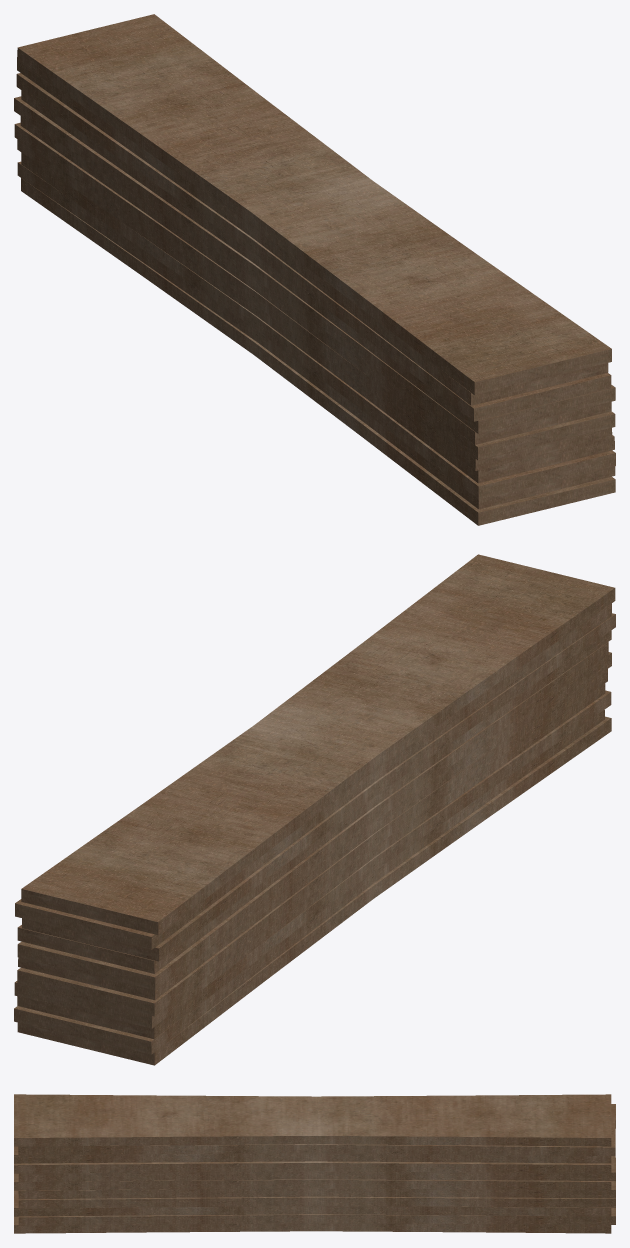
The model's file is Wood Planks Game Ready Asset.glb.
The picture shows the model from 3 angles, top to bottom: view 1: azimuth 30°, elevation 25°; view 2: azimuth 150°, elevation 25°; view 3: azimuth 270°, elevation 25°; orthographic projection. The views are drawn at different scales.
Parts seen in each view (by area): view 1: WoodPlank.010, WoodPlank, WoodPlank.008, WoodPlank.002, WoodPlank.006, WoodPlank.004, WoodPlank.005, WoodPlank.001, WoodPlank.009, WoodPlank.003, WoodPlank.007; view 2: WoodPlank.010, WoodPlank.006, WoodPlank.004, WoodPlank, WoodPlank.008, WoodPlank.002, WoodPlank.009, WoodPlank.001, WoodPlank.005, WoodPlank.003, WoodPlank.007; view 3: WoodPlank.010, WoodPlank.007, WoodPlank.003, WoodPlank.009, WoodPlank.005, WoodPlank.001, WoodPlank.002, WoodPlank.004, WoodPlank.008, WoodPlank, WoodPlank.006.
Boxes of the visible parts, <box> form: WoodPlank.010: <box>17,14,611,395</box>; WoodPlank: <box>21,178,615,525</box>; WoodPlank.008: <box>16,73,611,421</box>; WoodPlank.002: <box>21,152,615,499</box>; WoodPlank.006: <box>14,96,611,444</box>; WoodPlank.004: <box>14,122,612,470</box>; WoodPlank.005: <box>20,116,615,460</box>; WoodPlank.001: <box>17,161,615,509</box>; WoodPlank.009: <box>17,57,608,405</box>; WoodPlank.003: <box>17,139,614,483</box>; WoodPlank.007: <box>21,90,615,433</box>; WoodPlank.010: <box>21,554,615,934</box>; WoodPlank.006: <box>17,642,608,990</box>; WoodPlank.004: <box>17,669,607,1016</box>; WoodPlank: <box>17,716,611,1065</box>; WoodPlank.008: <box>22,613,615,961</box>; WoodPlank.002: <box>17,690,611,1038</box>; WoodPlank.009: <box>15,603,611,949</box>; WoodPlank.001: <box>14,710,604,1054</box>; WoodPlank.005: <box>18,652,611,999</box>; WoodPlank.003: <box>14,683,605,1028</box>; WoodPlank.007: <box>17,630,611,973</box>; WoodPlank.010: <box>14,1094,611,1146</box>; WoodPlank.007: <box>14,1161,611,1173</box>; WoodPlank.003: <box>18,1191,615,1208</box>; WoodPlank.009: <box>18,1104,615,1155</box>; WoodPlank.005: <box>14,1173,611,1190</box>; WoodPlank.001: <box>18,1207,615,1225</box>; WoodPlank.002: <box>14,1190,611,1216</box>; WoodPlank.004: <box>18,1181,615,1199</box>; WoodPlank.008: <box>14,1146,611,1163</box>; WoodPlank: <box>14,1216,611,1233</box>; WoodPlank.006: <box>18,1156,615,1182</box>.
Size of the model in its own units: 0.2922 by 0.2781 by 1.61.
1 material, 1 textured.
